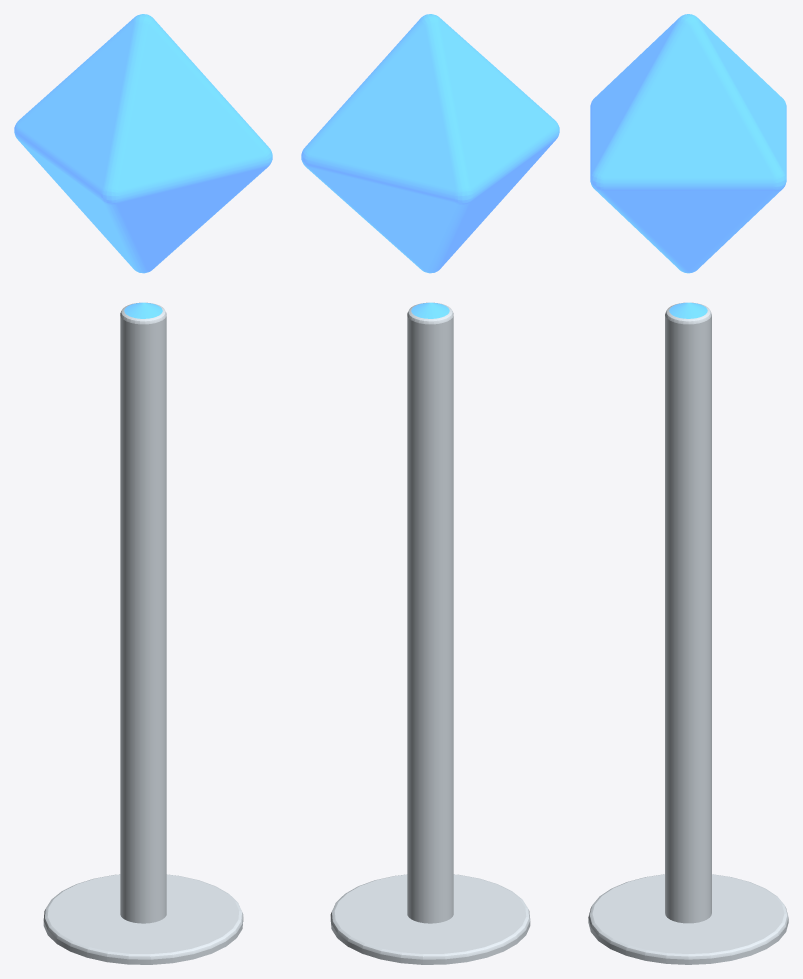
File: waypoint-beacon-23ba00.glb
3 views of the same model, side by side, from view 1: azimuth 30°, elevation 25°; view 2: azimuth 150°, elevation 25°; view 3: azimuth 270°, elevation 25° (orthographic).
Visible parts, largest first — view 1: stand, gem-shell; view 2: stand, gem-shell; view 3: stand, gem-shell, lens.
Boxes of the visible parts, x1,y1,x2,y2 form: stand: (43,302,243,964); gem-shell: (14,14,272,273); stand: (330,302,530,964); gem-shell: (301,14,559,273); stand: (588,302,788,964); gem-shell: (590,14,786,273); lens: (669,302,707,318).
Bounding box in the file's own units: 0.24 × 1.2 × 0.24.
